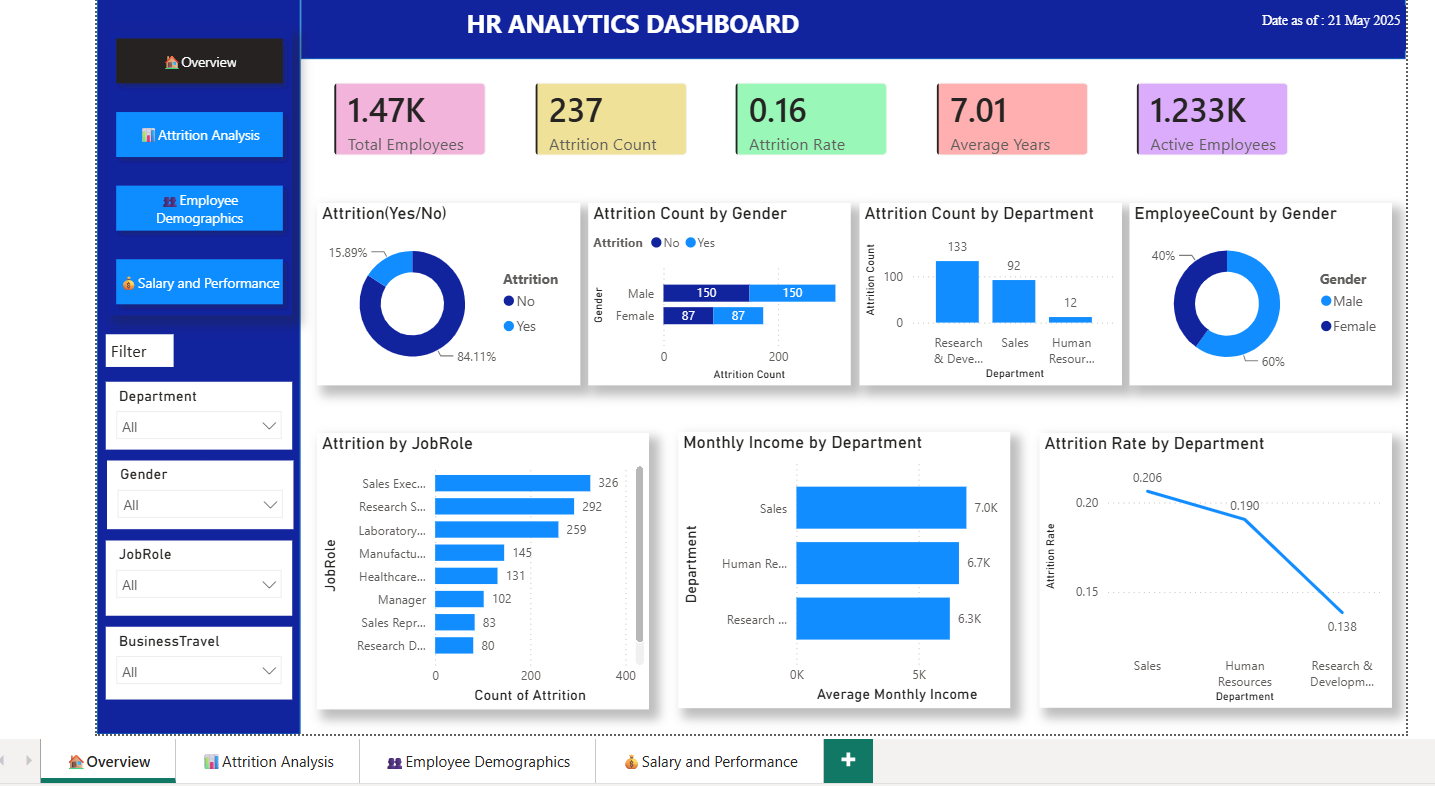

This screenshot's page, from the dashboard's own definition file:
{"tool":"powerbi","page":{"name":"🏠Overview","canvas":[1280,720],"ordinal":0},"visuals":[{"type":"cardVisual","fields":{"Data":["hr_analytics staging_hr.Total Employees"]},"box":[215.4,65.9,182.5,105.7],"z":0},{"type":"cardVisual","fields":{"Data":["hr_analytics staging_hr.Attrition Rate"]},"box":[608.1,65.9,182,105],"z":1000},{"type":"cardVisual","fields":{"Data":["hr_analytics staging_hr.Average Years"]},"box":[804.2,65.9,182,105],"z":2000},{"type":"cardVisual","fields":{"Data":["hr_analytics staging_hr.Attrition Count"]},"box":[412,65.9,182,105],"z":3000},{"type":"shape","box":[0,0,199,720.4],"z":4000},{"type":"shape","box":[199.3,0,1081,59.9],"z":5000},{"type":"cardVisual","fields":{"Data":["hr_analytics staging_hr.Active Employees"]},"box":[1000.3,65.9,182.2,105.2],"z":6000},{"type":"textbox","box":[313,3.7,421.9,47.7],"z":7000},{"type":"slicer","fields":{"Values":["hr_analytics staging_hr.Department"]},"box":[8.6,375.4,182.2,66],"z":11000},{"type":"slicer","fields":{"Values":["hr_analytics staging_hr.Gender"]},"box":[9.8,452.4,182.2,67.3],"z":12000},{"type":"slicer","fields":{"Values":["hr_analytics staging_hr.JobRole"]},"box":[8.6,530.7,182.2,73.4],"z":13000},{"type":"slicer","fields":{"Values":["hr_analytics staging_hr.BusinessTravel"]},"box":[8.6,615.1,182.2,70.9],"z":14000},{"type":"donutChart","title":"Attrition(Yes/No)","fields":{"Category":["hr_analytics staging_hr.Attrition"],"Y":["Sum(hr_analytics staging_hr.EmployeeNumber)"]},"box":[215.4,200.3,258,178.4],"z":15000},{"type":"barChart","title":"Attrition Count by Gender","fields":{"Category":["hr_analytics staging_hr.Gender"],"Series":["hr_analytics staging_hr.Attrition"],"Y":["hr_analytics staging_hr.Attrition Count"]},"box":[480.9,200.5,257,178.4],"z":16000},{"type":"clusteredColumnChart","fields":{"Category":["hr_analytics staging_hr.Department"],"Y":["hr_analytics staging_hr.Attrition Count"]},"box":[745.4,200.6,257,178],"z":17000},{"type":"barChart","title":"Attrition by JobRole","fields":{"Y":["CountNonNull(hr_analytics staging_hr.Attrition)"],"Category":["hr_analytics staging_hr.JobRole"]},"box":[215.4,425.4,325,270],"z":18000},{"type":"barChart","title":"Monthly Income by Department","fields":{"Category":["hr_analytics staging_hr.Department"],"Y":["hr_analytics staging_hr.Average Monthly Income"]},"box":[568.8,424,325,270.3],"z":19000},{"type":"lineChart","fields":{"Category":["hr_analytics staging_hr.Department"],"Y":["hr_analytics staging_hr.Attrition Rate"]},"box":[922.1,425.4,344.4,269],"z":20000},{"type":"donutChart","title":"EmployeeCount by Gender","fields":{"Category":["hr_analytics staging_hr.Gender"],"Y":["Sum(hr_analytics staging_hr.EmployeeCount)"]},"box":[1010,200.3,257,178.4],"z":21000},{"type":"textbox","box":[1128.7,7.3,151.6,44],"z":22000},{"type":"textbox","box":[8.6,328.9,66,31.8],"z":23000},{"type":"pageNavigator","box":[9.6,30.2,181.1,279.9],"z":24000}]}

Visuals, with their boxes on the page's 1280x720 design canvas (x1, y1, x2, y2). These are canvas units, not pixel positions in the 1435x786 screenshot, which may show the page scaled, cropped or inside an application window:
cardVisual - hr_analytics staging_hr.Total Employees: region(215, 66, 398, 172)
cardVisual - hr_analytics staging_hr.Attrition Rate: region(608, 66, 790, 171)
cardVisual - hr_analytics staging_hr.Average Years: region(804, 66, 986, 171)
cardVisual - hr_analytics staging_hr.Attrition Count: region(412, 66, 594, 171)
shape: region(0, 0, 199, 720)
shape: region(199, 0, 1280, 60)
cardVisual - hr_analytics staging_hr.Active Employees: region(1000, 66, 1182, 171)
textbox: region(313, 4, 735, 51)
slicer - hr_analytics staging_hr.Department: region(9, 375, 191, 441)
slicer - hr_analytics staging_hr.Gender: region(10, 452, 192, 520)
slicer - hr_analytics staging_hr.JobRole: region(9, 531, 191, 604)
slicer - hr_analytics staging_hr.BusinessTravel: region(9, 615, 191, 686)
"Attrition(Yes/No)" donutChart: region(215, 200, 473, 379)
"Attrition Count by Gender" barChart: region(481, 200, 738, 379)
clusteredColumnChart - hr_analytics staging_hr.Department x hr_analytics staging_hr.Attrition Count: region(745, 201, 1002, 379)
"Attrition by JobRole" barChart: region(215, 425, 540, 695)
"Monthly Income by Department" barChart: region(569, 424, 894, 694)
lineChart - hr_analytics staging_hr.Department x hr_analytics staging_hr.Attrition Rate: region(922, 425, 1266, 694)
"EmployeeCount by Gender" donutChart: region(1010, 200, 1267, 379)
textbox: region(1129, 7, 1280, 51)
textbox: region(9, 329, 75, 361)
pageNavigator: region(10, 30, 191, 310)
